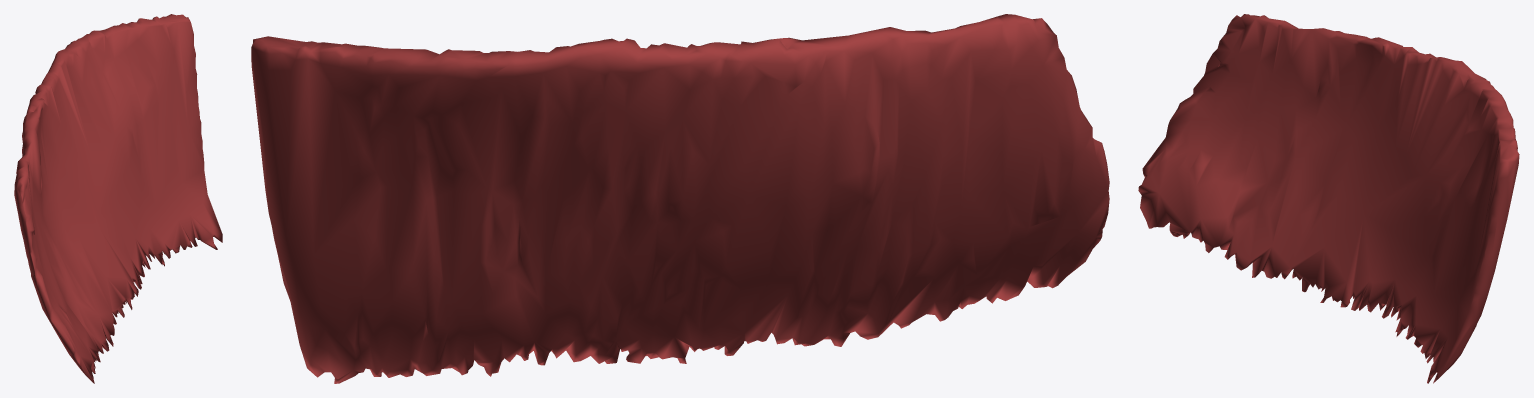
The model's file is occipitalis-muscle-r.glb.
3 views of the same model, side by side, from view 1: azimuth 30°, elevation 25°; view 2: azimuth 150°, elevation 25°; view 3: azimuth 270°, elevation 25° (orthographic). The views are drawn at different scales.
Visible parts, largest first — view 1: Occipitalis muscle.r; view 2: Occipitalis muscle.r; view 3: Occipitalis muscle.r.
Boxes of the visible parts, box(x1,y1,x2,y2) form: Occipitalis muscle.r: box(14, 14, 222, 383); Occipitalis muscle.r: box(251, 14, 1109, 383); Occipitalis muscle.r: box(1138, 14, 1519, 383).
Size of the model in its own units: 0.0466 by 0.033 by 0.0466.
